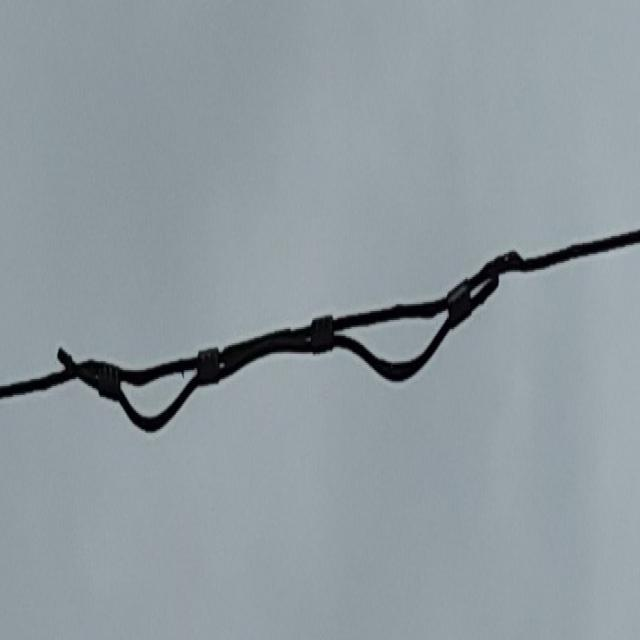wire: (41, 220, 536, 488)
